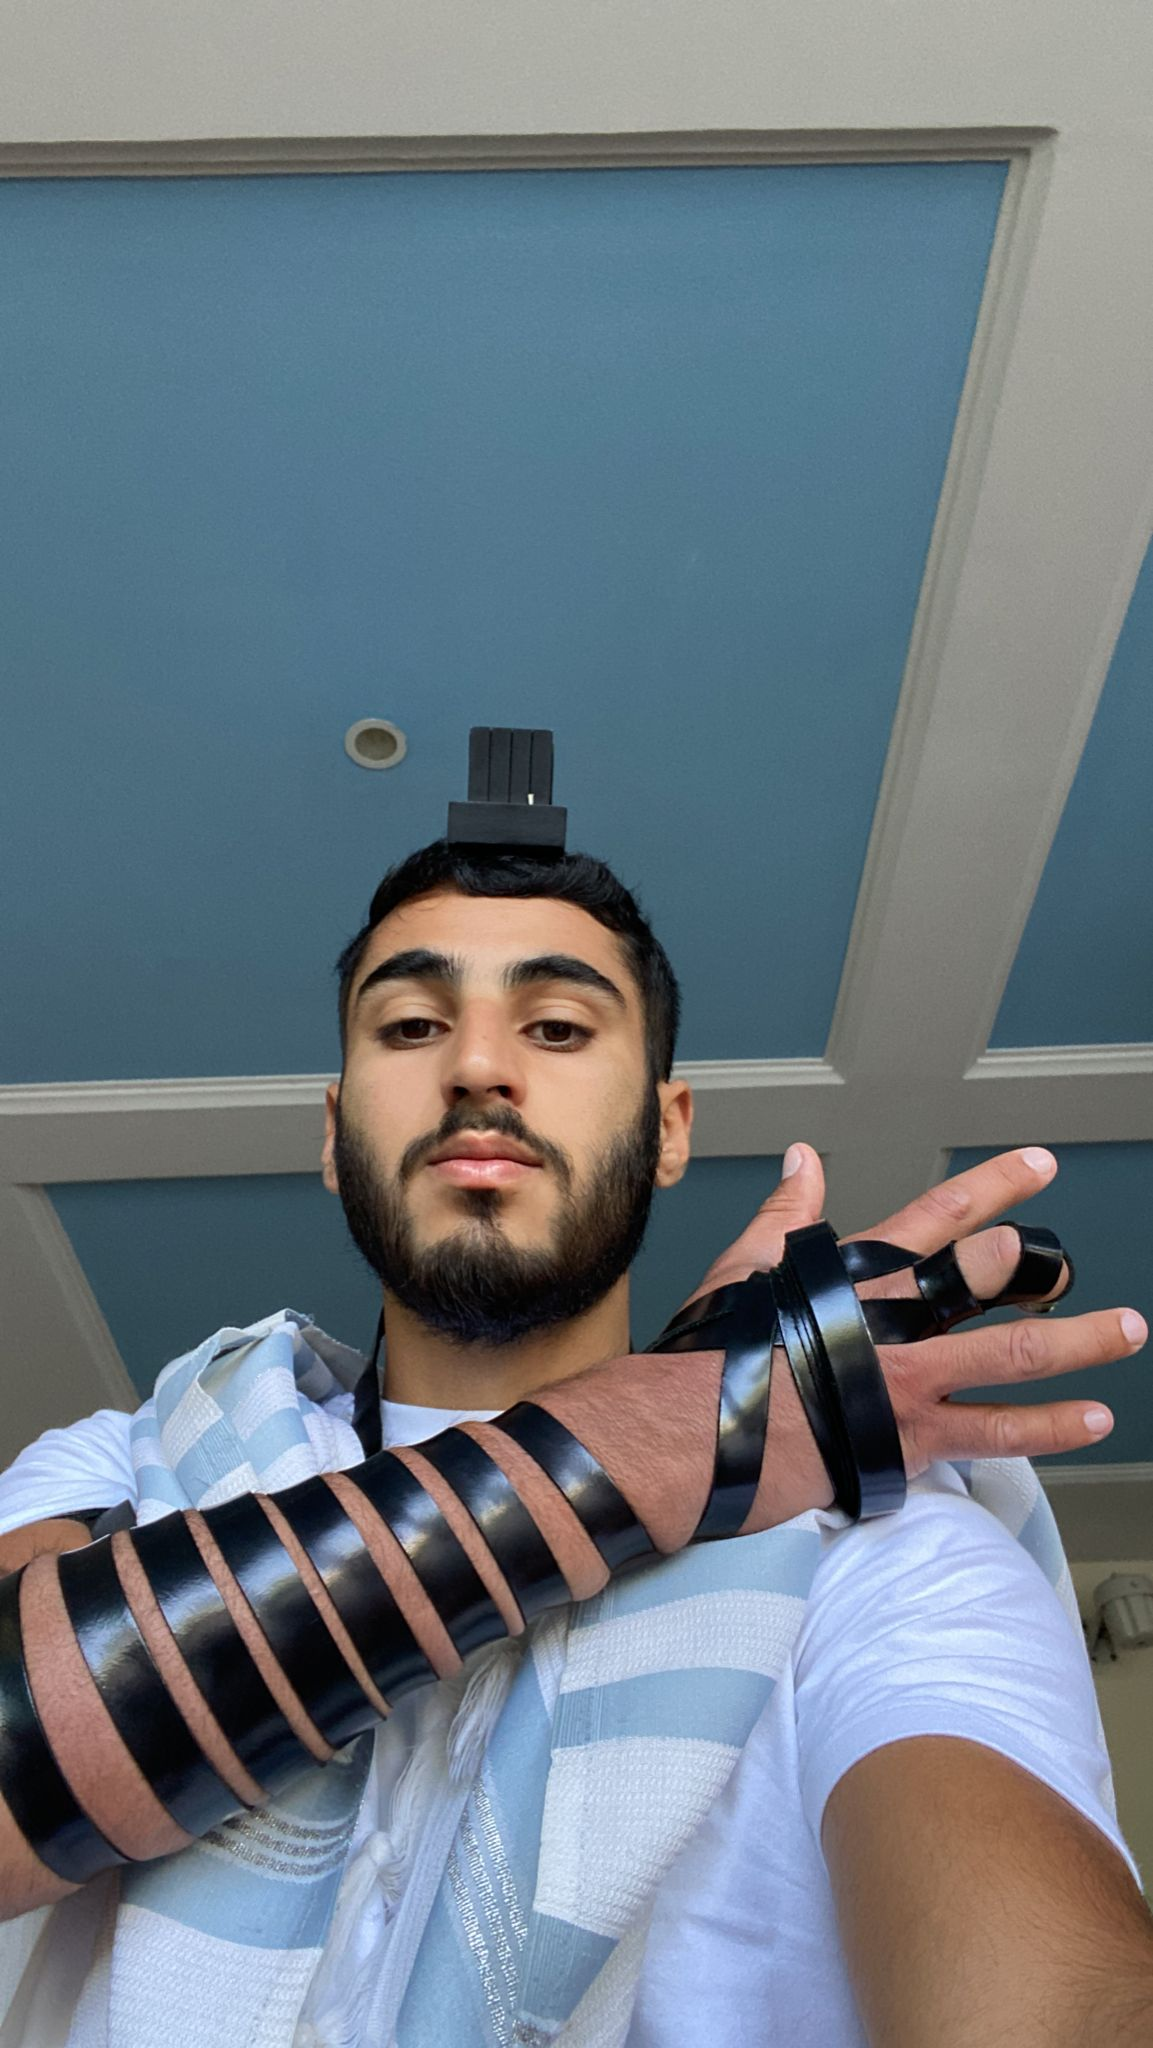tefillin: (443, 729, 579, 859)
